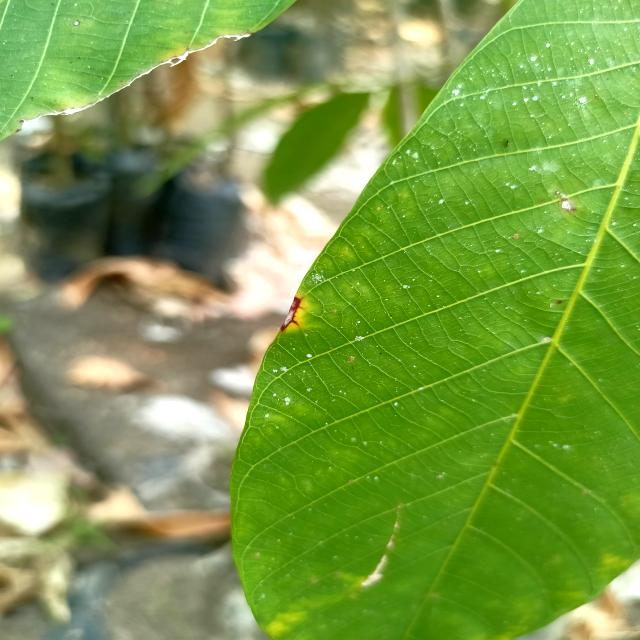Colletotrichum: (72, 20, 80, 26)
Corynespora: (281, 295, 303, 332)
